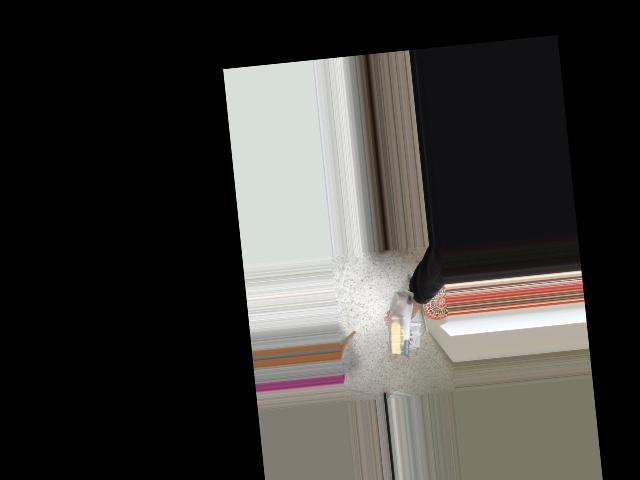cheese: (383, 291, 419, 357)
